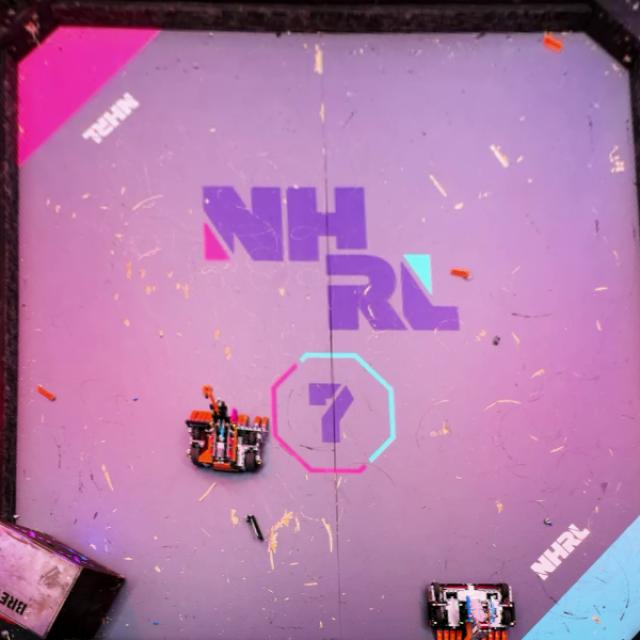housebot: (0, 520, 125, 640)
robot: (185, 385, 270, 474), (427, 581, 517, 640)
